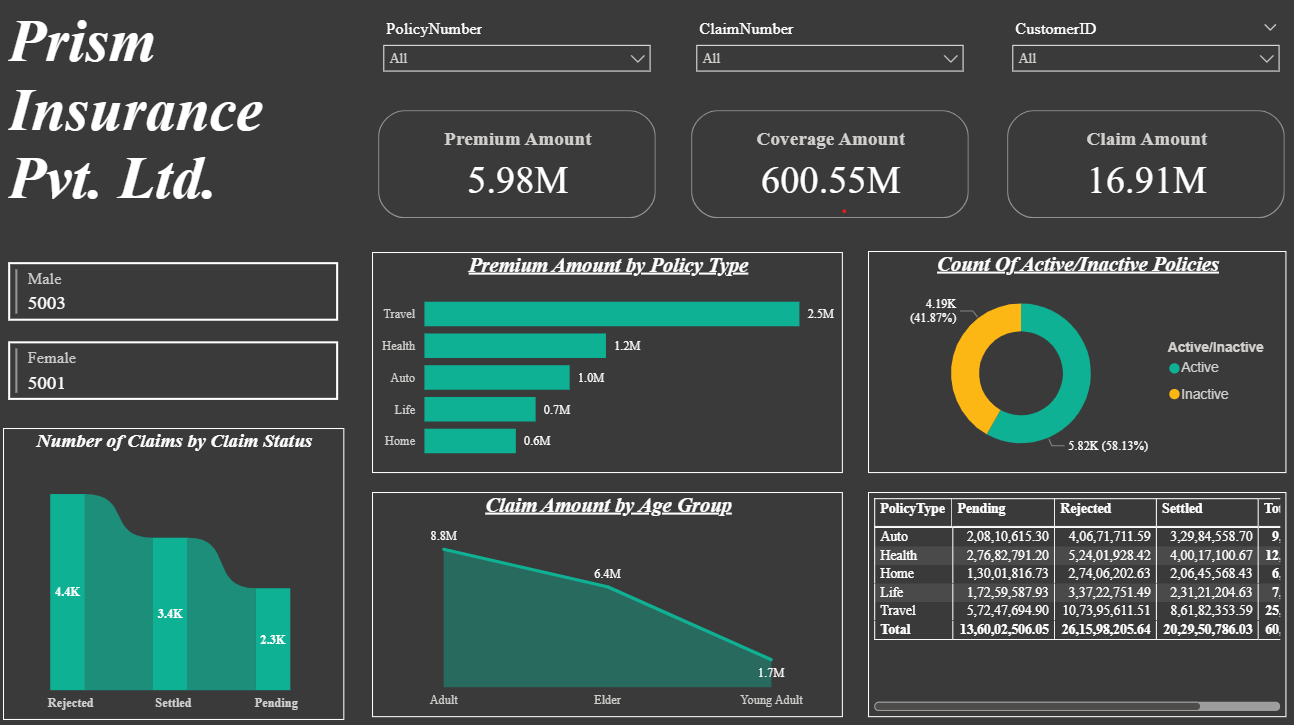

Layout of this report page (visuals, bound fields, positions):
{"tool":"powerbi","page":{"name":"Page 1","canvas":[1280,720],"ordinal":0},"visuals":[{"type":"slicer","fields":{"Values":["InsuranceData.PolicyNumber"]},"box":[369.6,23.3,280.1,81.7],"z":0},{"type":"slicer","fields":{"Values":["InsuranceData.ClaimNumber"]},"box":[674,23.3,280.1,81.7],"z":1000},{"type":"slicer","fields":{"Values":["InsuranceData.CustomerID"]},"box":[981.4,23.3,280.1,81.7],"z":2000},{"type":"textbox","box":[9.7,10.7,329.7,216.9],"z":3000},{"type":"cardVisual","fields":{"Data":["Sum(InsuranceData.PremiumAmount)"]},"box":[369.6,111.9,280.1,115.7],"z":4000},{"type":"cardVisual","fields":{"Data":["Sum(InsuranceData.CoverageAmount)"]},"box":[674,111.9,280.1,115.7],"z":5000},{"type":"cardVisual","fields":{"Data":["Sum(InsuranceData.ClaimAmount)"]},"box":[981.4,111.9,280.1,115.7],"z":6000},{"type":"multiRowCard","fields":{"Values":["CountNonNull(InsuranceData.Gender)","InsuranceData.Gender"]},"box":[9.7,259.7,330.7,166.3],"z":7000},{"type":"ribbonChart","title":"Number of Claims by Claim Status","fields":{"Category":["InsuranceData.ClaimStatus"],"Y":["CountNonNull(InsuranceData.ClaimStatus)"]},"box":[9.7,426,331.7,284],"z":8000},{"type":"barChart","title":"Premium Amount by Policy Type","fields":{"Category":["InsuranceData.PolicyType"],"Y":["Sum(InsuranceData.PremiumAmount)"]},"box":[368.6,254.8,458.1,215],"z":9000},{"type":"lineChart","title":"Claim Amount by Age Group","fields":{"Category":["InsuranceData.Age Group"],"Y":["Sum(InsuranceData.ClaimAmount)"]},"box":[368.6,488.3,458.1,218.8],"z":10000},{"type":"donutChart","title":"Count Of Active/Inactive Policies","fields":{"Category":["InsuranceData.Active/Inactive"],"Y":["CountNonNull(InsuranceData.Active/Inactive)"]},"box":[851.1,253.9,406.6,215.9],"z":11000},{"type":"pivotTable","fields":{"Rows":["InsuranceData.PolicyType"],"Columns":["InsuranceData.ClaimStatus"],"Values":["Sum(InsuranceData.CoverageAmount)"]},"box":[851.1,488.3,406.6,218.8],"z":12000}]}

Visuals, with their boxes in screenshot pixels (x1, y1, x2, y2), scaled from the page's 1280x720 canvas onto the 1294x725 screenshot:
slicer - InsuranceData.PolicyNumber: (x1=374, y1=23, x2=657, y2=106)
slicer - InsuranceData.ClaimNumber: (x1=681, y1=23, x2=965, y2=106)
slicer - InsuranceData.CustomerID: (x1=992, y1=23, x2=1275, y2=106)
textbox: (x1=10, y1=11, x2=343, y2=229)
cardVisual - Sum(InsuranceData.PremiumAmount): (x1=374, y1=113, x2=657, y2=229)
cardVisual - Sum(InsuranceData.CoverageAmount): (x1=681, y1=113, x2=965, y2=229)
cardVisual - Sum(InsuranceData.ClaimAmount): (x1=992, y1=113, x2=1275, y2=229)
multiRowCard - CountNonNull(InsuranceData.Gender) x InsuranceData.Gender: (x1=10, y1=262, x2=344, y2=429)
"Number of Claims by Claim Status" ribbonChart: (x1=10, y1=429, x2=345, y2=715)
"Premium Amount by Policy Type" barChart: (x1=373, y1=257, x2=836, y2=473)
"Claim Amount by Age Group" lineChart: (x1=373, y1=492, x2=836, y2=712)
"Count Of Active/Inactive Policies" donutChart: (x1=860, y1=256, x2=1271, y2=473)
pivotTable - InsuranceData.PolicyType x InsuranceData.ClaimStatus: (x1=860, y1=492, x2=1271, y2=712)
